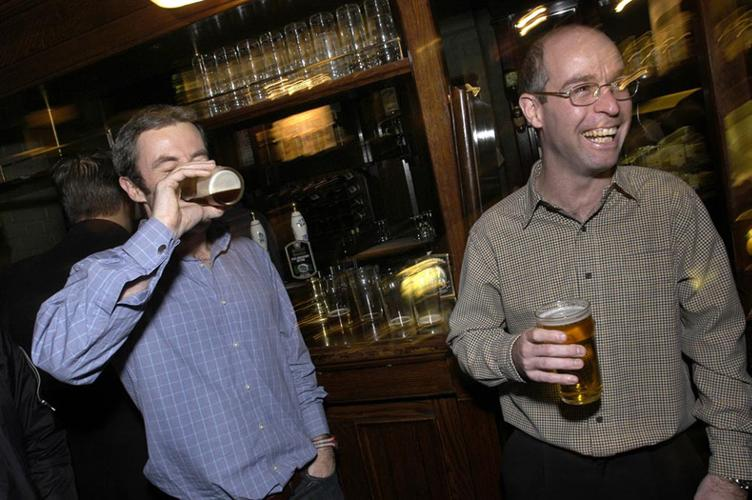person: (26, 105, 350, 500)
